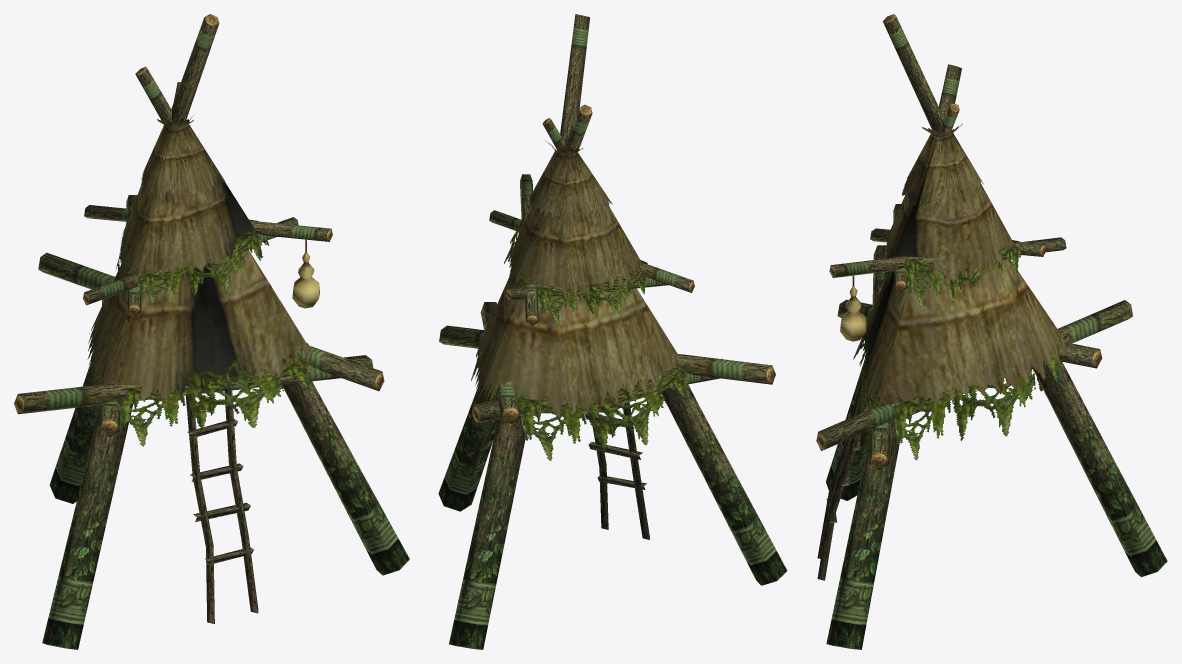
File: cj_sugi_house_b.glb
The picture shows the model from 3 angles, left to right: view 1: azimuth 30°, elevation 25°; view 2: azimuth 150°, elevation 25°; view 3: azimuth 270°, elevation 25°; orthographic projection. The views are drawn at different scales.
Visible parts, largest first — view 1: CJ_Sugi_House_B_01, CJ_Sugi_House_B_02, CJ_Sugi_House_B_03; view 2: CJ_Sugi_House_B_01, CJ_Sugi_House_B_02, CJ_Sugi_House_B_03; view 3: CJ_Sugi_House_B_02, CJ_Sugi_House_B_01, CJ_Sugi_House_B_03.
Part boxes in pixels (left/top/right/bottom): CJ_Sugi_House_B_01: left=14, top=14, right=409, bottom=649; CJ_Sugi_House_B_02: left=87, top=115, right=311, bottom=401; CJ_Sugi_House_B_03: left=79, top=211, right=319, bottom=446; CJ_Sugi_House_B_01: left=438, top=14, right=787, bottom=649; CJ_Sugi_House_B_02: left=475, top=140, right=679, bottom=417; CJ_Sugi_House_B_03: left=471, top=217, right=688, bottom=460; CJ_Sugi_House_B_02: left=862, top=123, right=1067, bottom=407; CJ_Sugi_House_B_01: left=816, top=14, right=1167, bottom=649; CJ_Sugi_House_B_03: left=840, top=240, right=1063, bottom=460.
Bounding box in the file's own units: 11.05 × 16.47 × 9.33.
Materials: 3 (3 with a texture image).
